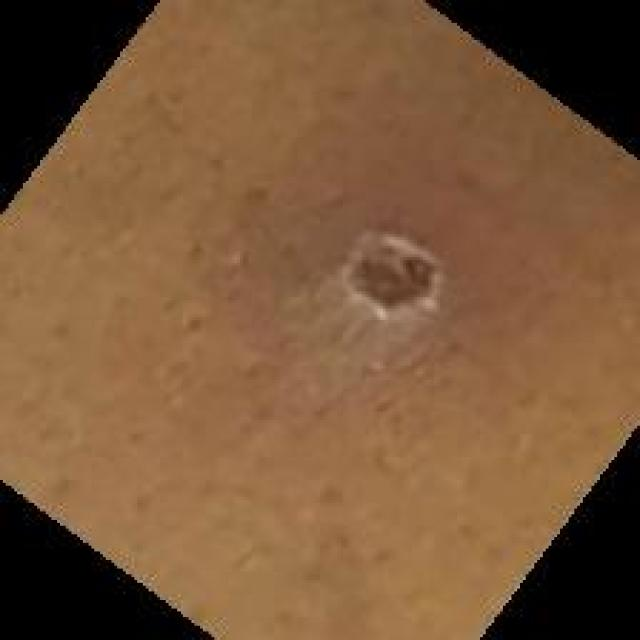monkeypox: (156, 117, 530, 504)
